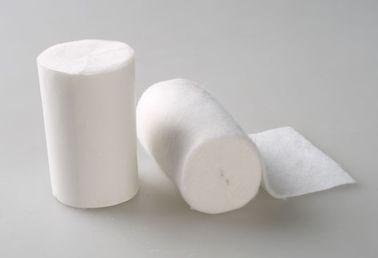bandage: (134, 79, 354, 214), (36, 41, 143, 210)
